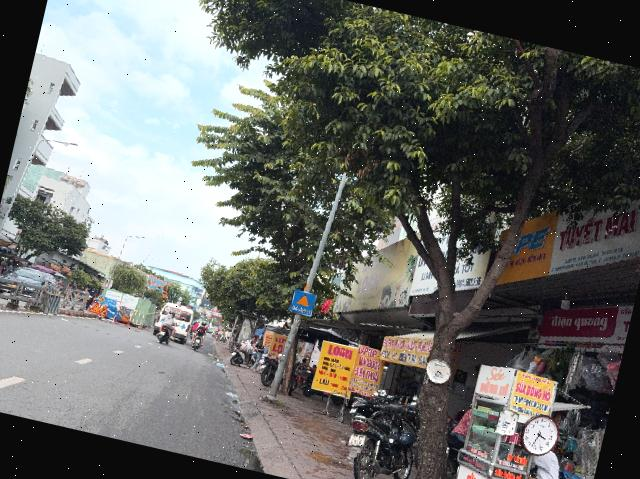khu-vuc-cho-phia-truoc: (289, 288, 316, 316)
